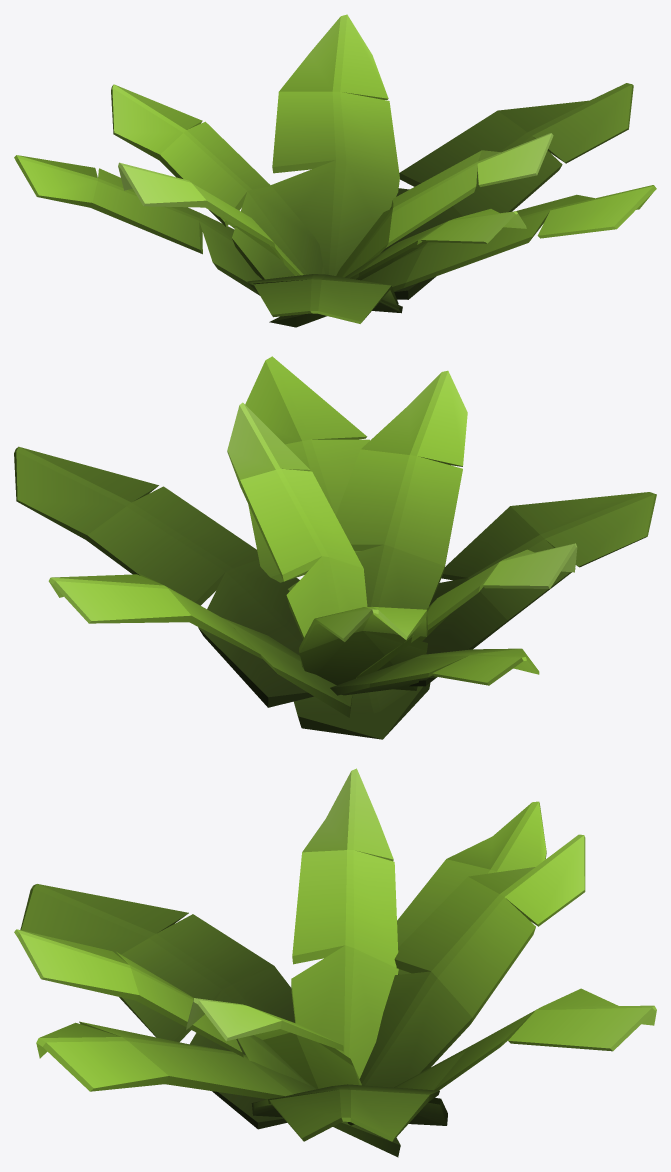
Rendered from Plant_E_1.fbx.
3 renders of one model, top to bottom at view 1: azimuth 30°, elevation 25°; view 2: azimuth 150°, elevation 25°; view 3: azimuth 270°, elevation 25°, orthographic. The views are drawn at different scales.
Parts seen in each view (by area): view 1: Plant_E_1; view 2: Plant_E_1; view 3: Plant_E_1.
Boxes of the visible parts, box(x1,y1,x2,y2) form: Plant_E_1: box(14, 14, 656, 327); Plant_E_1: box(14, 356, 656, 739); Plant_E_1: box(14, 768, 656, 1157).
Size of the model in its own units: 93.78 by 34.79 by 79.89.
